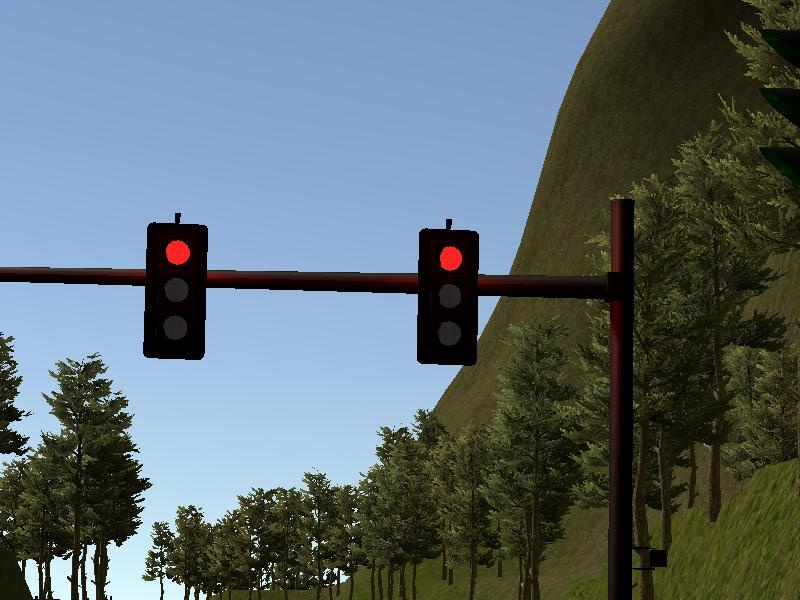red: (140, 222, 209, 360), (414, 227, 480, 366)
